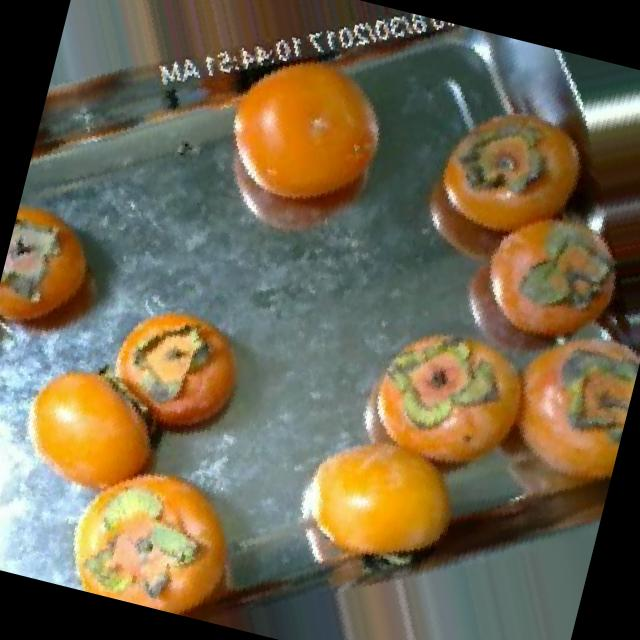Fruit: (176, 12, 424, 283), (385, 65, 629, 322), (0, 335, 189, 528), (88, 282, 269, 469), (0, 182, 135, 371)
